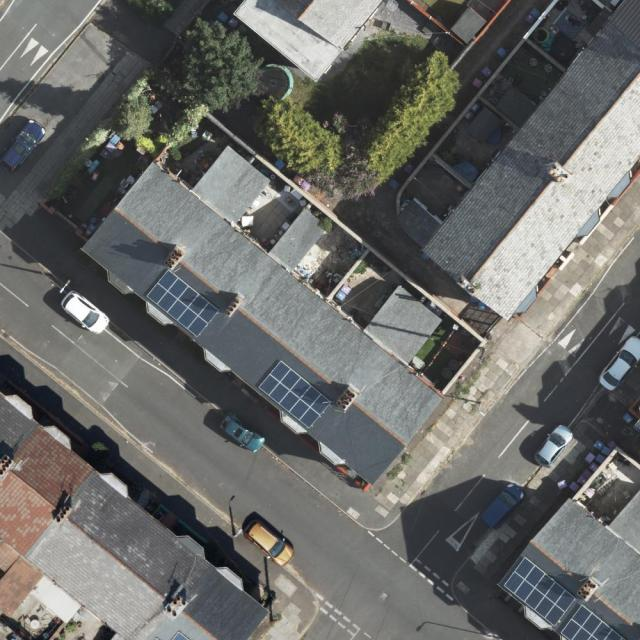roof: (79, 143, 445, 486), (396, 0, 640, 320), (1, 394, 268, 640), (497, 487, 640, 640), (235, 0, 390, 84)
solar: (258, 356, 334, 429), (503, 552, 577, 624), (146, 267, 221, 338), (558, 602, 624, 640)
